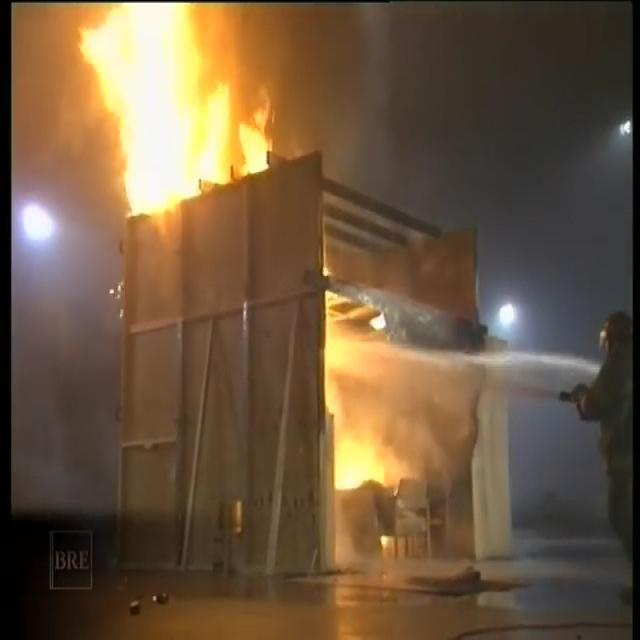Fire: (81, 0, 270, 181), (328, 290, 429, 485)
